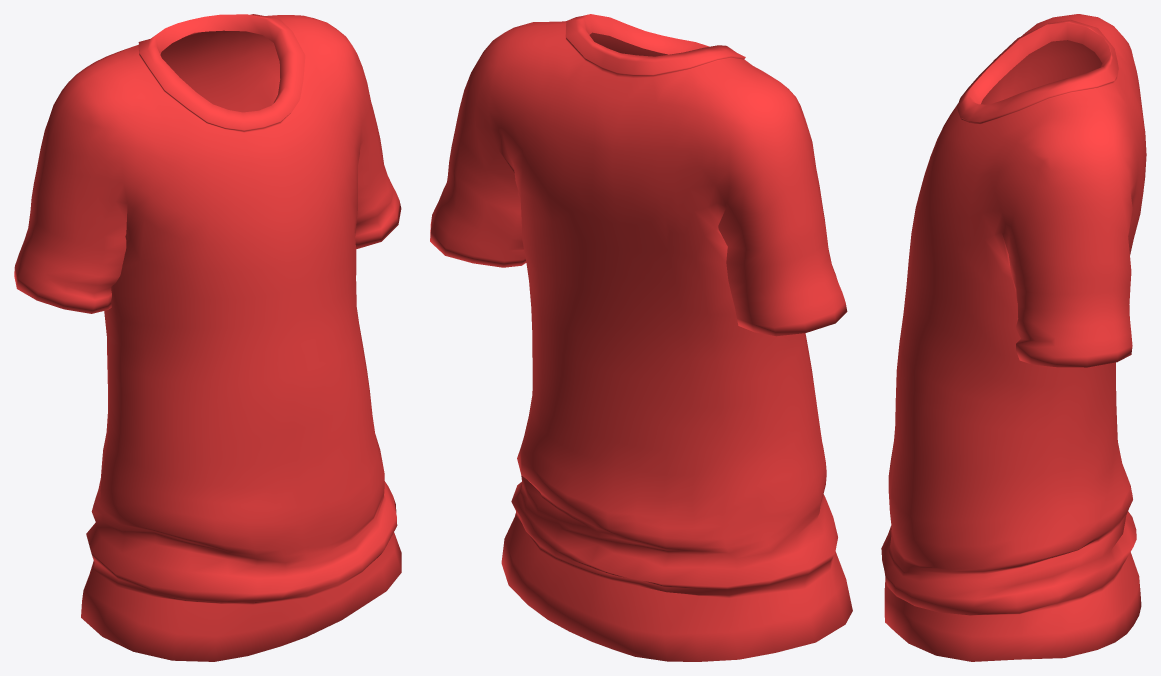
Rendered from 紅衣服.fbx.
3 renders of one model, left to right at view 1: azimuth 30°, elevation 25°; view 2: azimuth 150°, elevation 25°; view 3: azimuth 270°, elevation 25°, orthographic. The views are drawn at different scales.
Parts seen in each view (by area): view 1: Shirt_MSH Shirt_GRP Clothing_GRP Geo mesh rig Boy_grp; view 2: Shirt_MSH Shirt_GRP Clothing_GRP Geo mesh rig Boy_grp; view 3: Shirt_MSH Shirt_GRP Clothing_GRP Geo mesh rig Boy_grp.
Part boxes in pixels (<box>): Shirt_MSH Shirt_GRP Clothing_GRP Geo mesh rig Boy_grp: <box>14,14,401,661</box>; Shirt_MSH Shirt_GRP Clothing_GRP Geo mesh rig Boy_grp: <box>430,14,852,661</box>; Shirt_MSH Shirt_GRP Clothing_GRP Geo mesh rig Boy_grp: <box>881,14,1146,661</box>.
Bounding box in the file's own units: 280 × 396 × 167.
